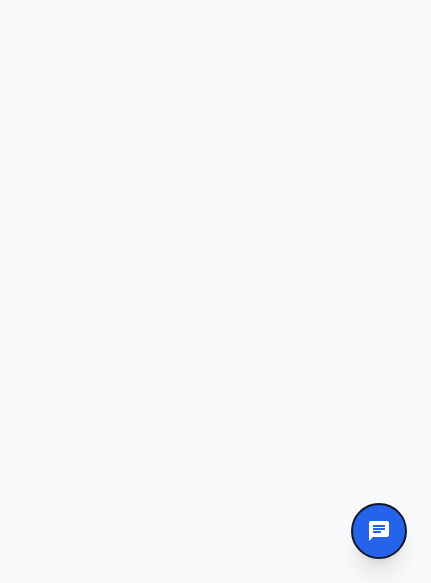
Test: ElonChatWidget Component (TDD Suite) › handles API error gracefully without crashing
Click the button with test id "elon-fab-button": (379, 531) 351,503 -> 407,559
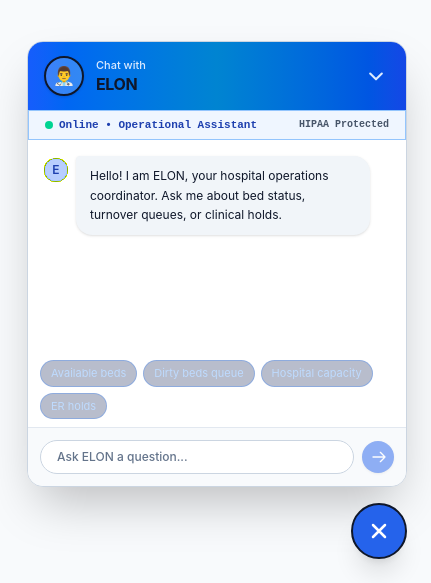
In the field with placeholder "Ask ELON a question...": (197, 457) 40,440 -> 354,474, type "Test query"
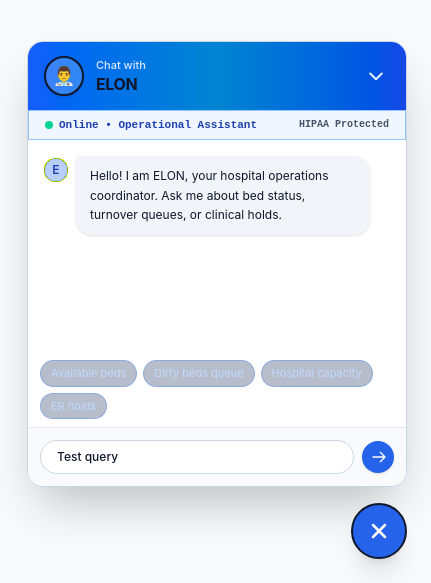
Submit the form with placeholder "Ask ELON a question...", box 28,427 -> 406,486
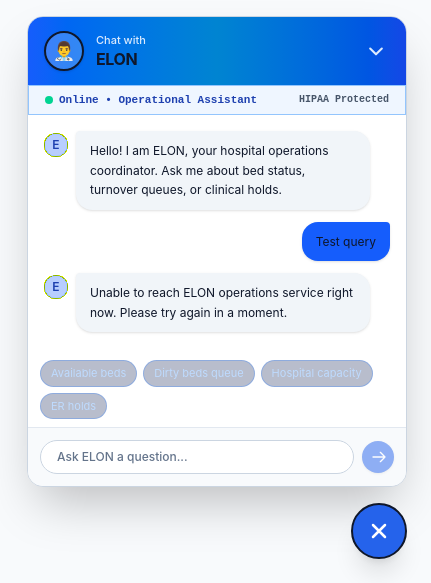
Now the text "Unable to reach ELON operations service right now" is shown, box 90,285 -> 356,320
